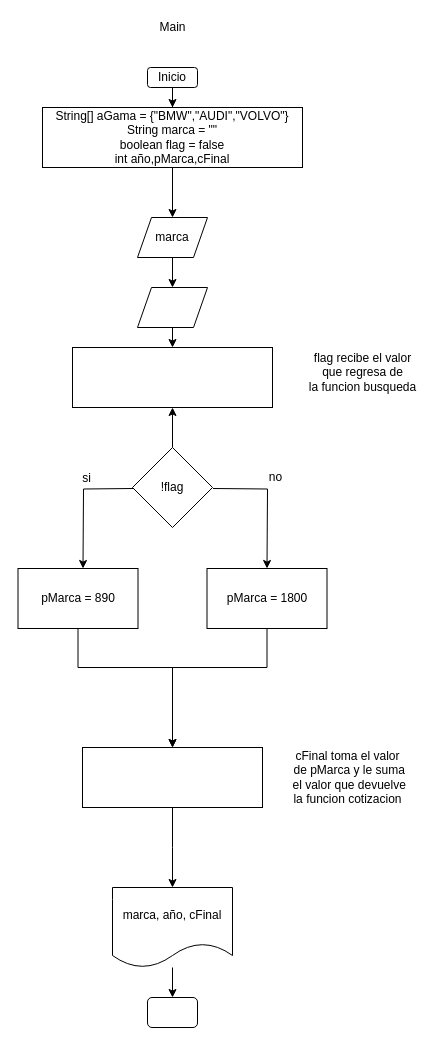
The diagram is 439 pixels wide and 1045 high, and some of its shapes have lost their labels. Each missing label, with the centre of its shape:
"año" goes at (172,307).
"cFinal = pMarca+cotizacion(año)" goes at (172,777).
"fin" goes at (172,1012).
"flag = busqueda(aGama, marca)" goes at (172,377).
